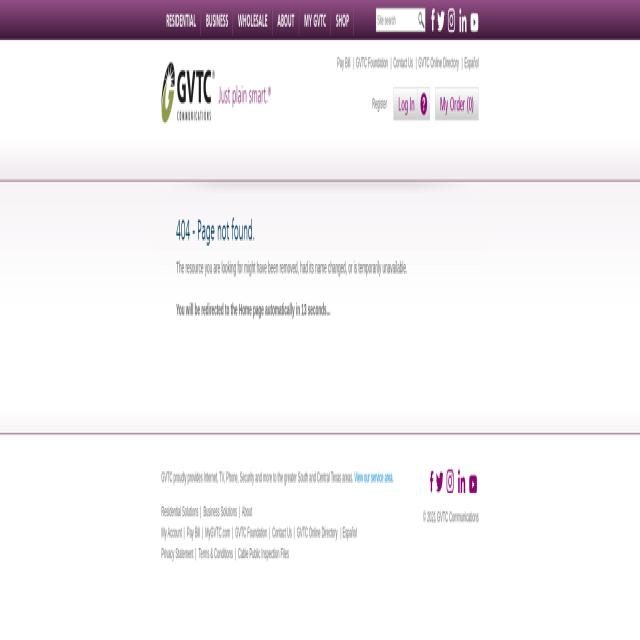button: (161, 62, 271, 124), (161, 3, 201, 40), (233, 3, 273, 40), (435, 88, 479, 121), (201, 3, 233, 40), (299, 3, 331, 40), (272, 3, 300, 40), (331, 3, 354, 40), (393, 88, 418, 121), (418, 87, 430, 121), (470, 6, 479, 32), (448, 6, 456, 32), (459, 6, 467, 32), (417, 7, 425, 33), (436, 468, 444, 493), (447, 468, 455, 493), (458, 468, 466, 493), (469, 468, 477, 493), (438, 6, 445, 32), (431, 8, 435, 30), (430, 470, 434, 491)
field: (376, 8, 425, 33)
